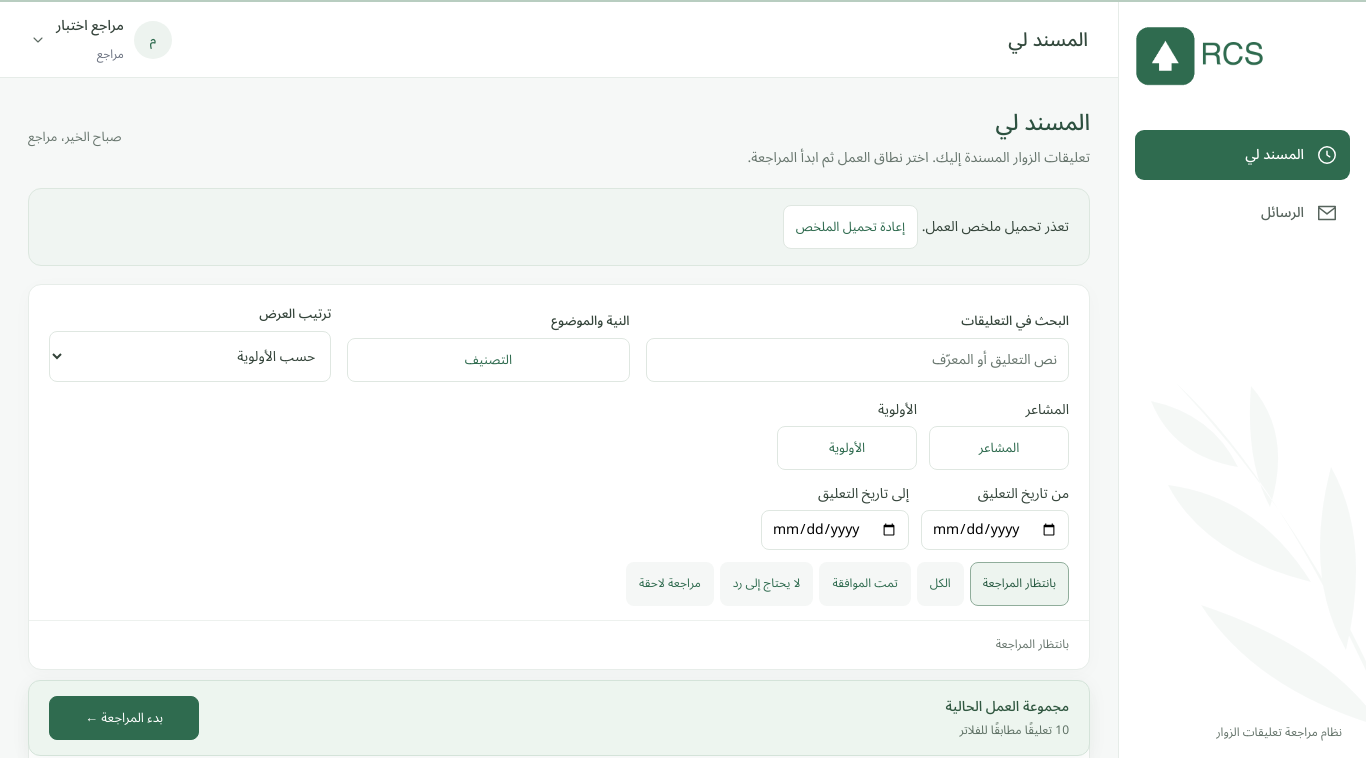
Test case: Reviewer Assigned work › reports a missing counts summary without blocking the available queue
Expected: the heading "قائمة المراجعة (10)" is shown, [944,703,1069,737]
Expected: the message shows "تعذر تحميل ملخص العمل", [918,212,1069,241]
Click the button "إعادة تحميل الملخص": (850, 227) [783,205,918,249]
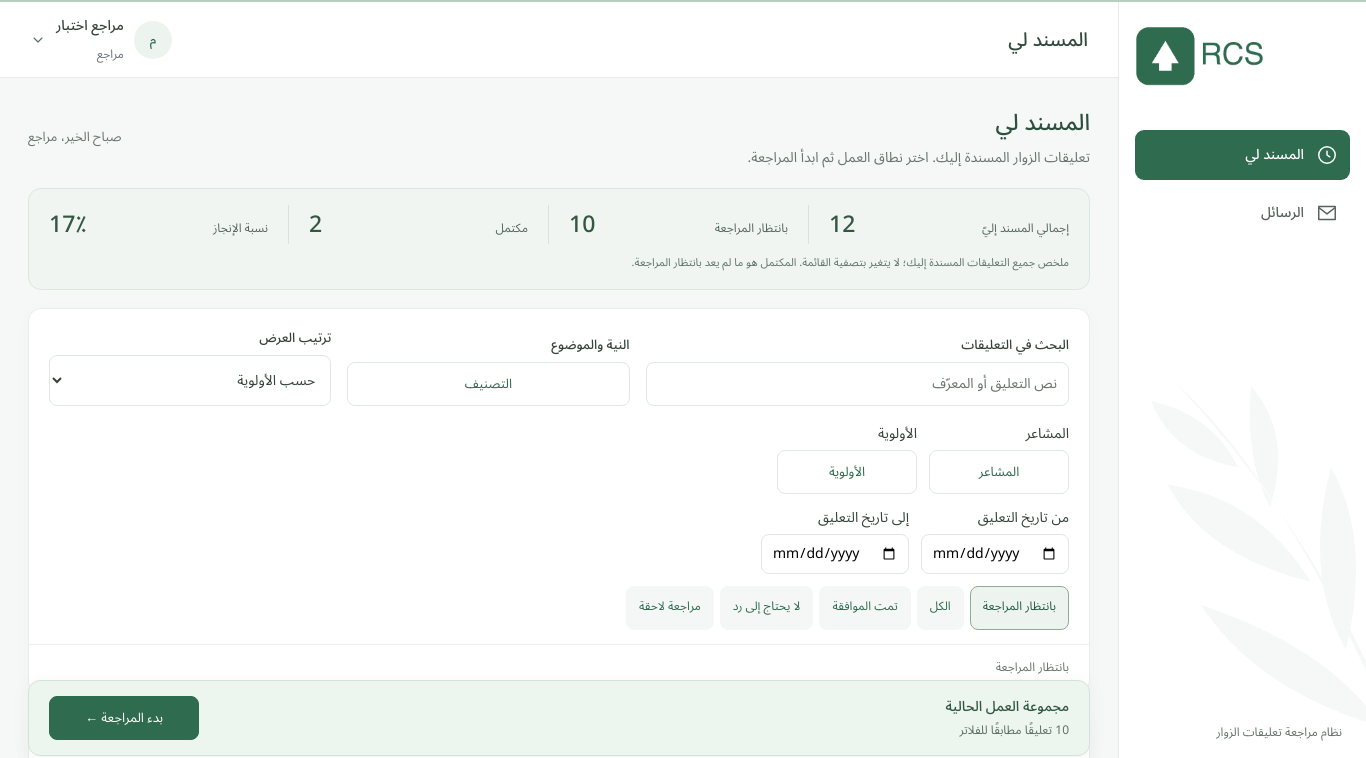
Result: the message "تعذر تحميل ملخص العمل. إعادة تحميل الملخص" is gone
